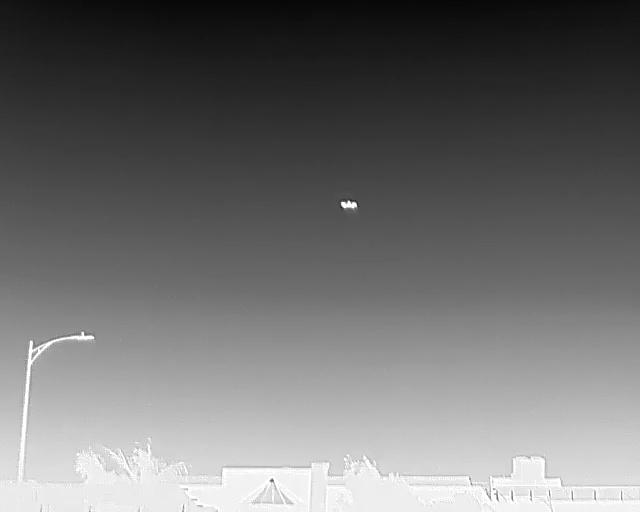fpv-drone: (340, 200, 357, 210)
